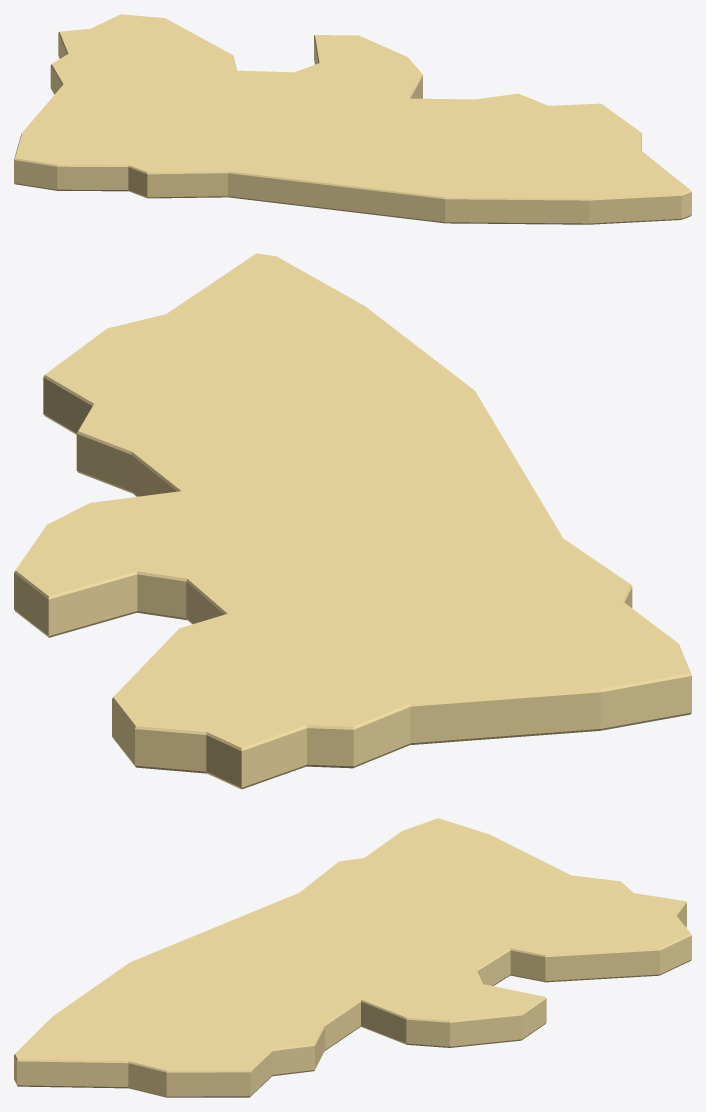
The model's file is LBR.glb.
3 views of the same model, one above another, from view 1: azimuth 30°, elevation 25°; view 2: azimuth 150°, elevation 25°; view 3: azimuth 270°, elevation 25° (orthographic). The views are drawn at different scales.
Bounding box in the file's own units: 1.36 × 0.068 × 1.54.
